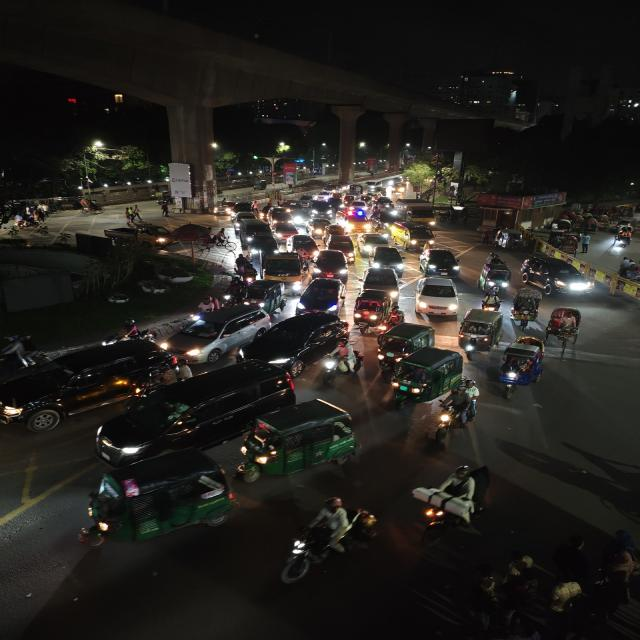car: (90, 356, 300, 465), (0, 334, 179, 437), (238, 312, 345, 369), (166, 304, 268, 362), (522, 254, 597, 299), (415, 276, 462, 318), (294, 278, 344, 314), (311, 248, 354, 280), (418, 247, 463, 277), (360, 267, 402, 297), (390, 222, 436, 248), (370, 245, 408, 272), (325, 232, 357, 264), (238, 222, 275, 248), (355, 232, 390, 256), (288, 234, 322, 258), (345, 207, 372, 233), (228, 200, 260, 218), (268, 207, 295, 226), (307, 218, 330, 238), (308, 202, 334, 218)
cng: (81, 450, 237, 544), (246, 399, 362, 479), (390, 347, 464, 407), (497, 336, 547, 396), (433, 380, 481, 440), (374, 320, 434, 363), (457, 308, 503, 355), (352, 290, 391, 332), (244, 280, 285, 314)
motorcycle: (276, 494, 369, 588), (416, 461, 489, 533), (433, 379, 482, 439), (321, 336, 359, 384), (609, 226, 635, 250)
pedestrian: (158, 197, 173, 219)
pickup_van: (262, 251, 312, 289), (108, 222, 176, 248)
rickshaw: (497, 337, 547, 395), (543, 305, 588, 346), (478, 254, 512, 292), (512, 286, 542, 328), (610, 220, 636, 248), (499, 228, 528, 250), (582, 214, 602, 231)
truck: (399, 200, 439, 226)
